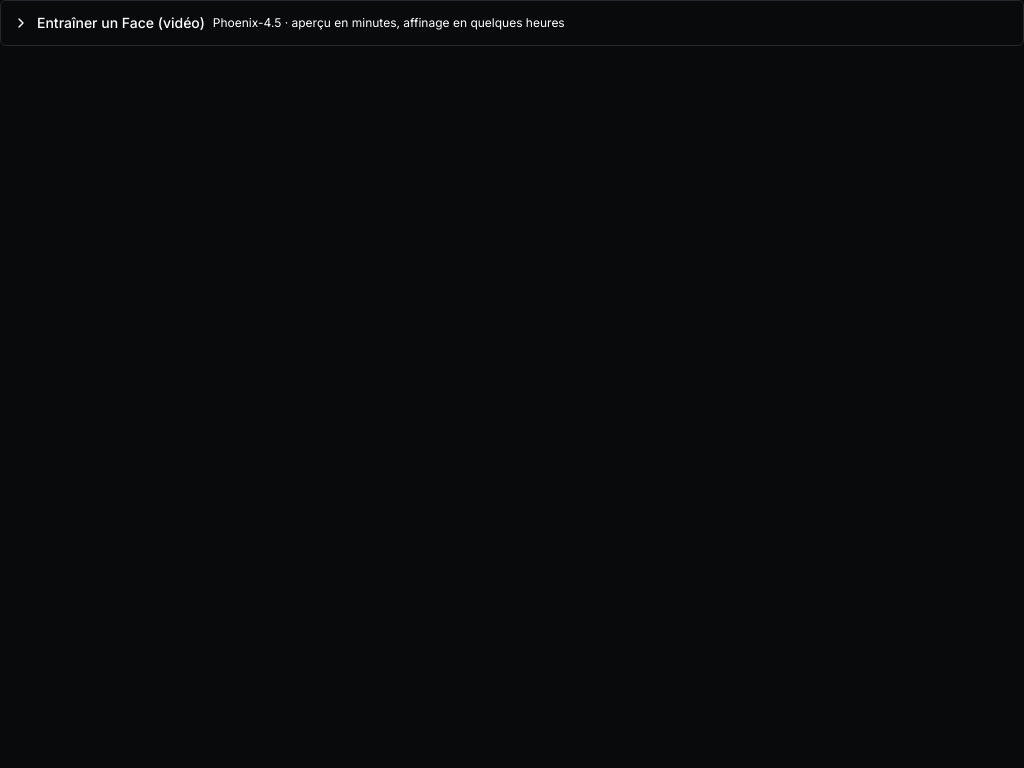
Test: TavusFaceTrainer › suggests « Max — date » and keeps training disabled without a source
What coordinates should you click on to do the following:
click the text "Entraîner un Face (vidéo)"
I would click on:
 (121, 23)
Its box is left=37, top=13, right=205, bottom=33.
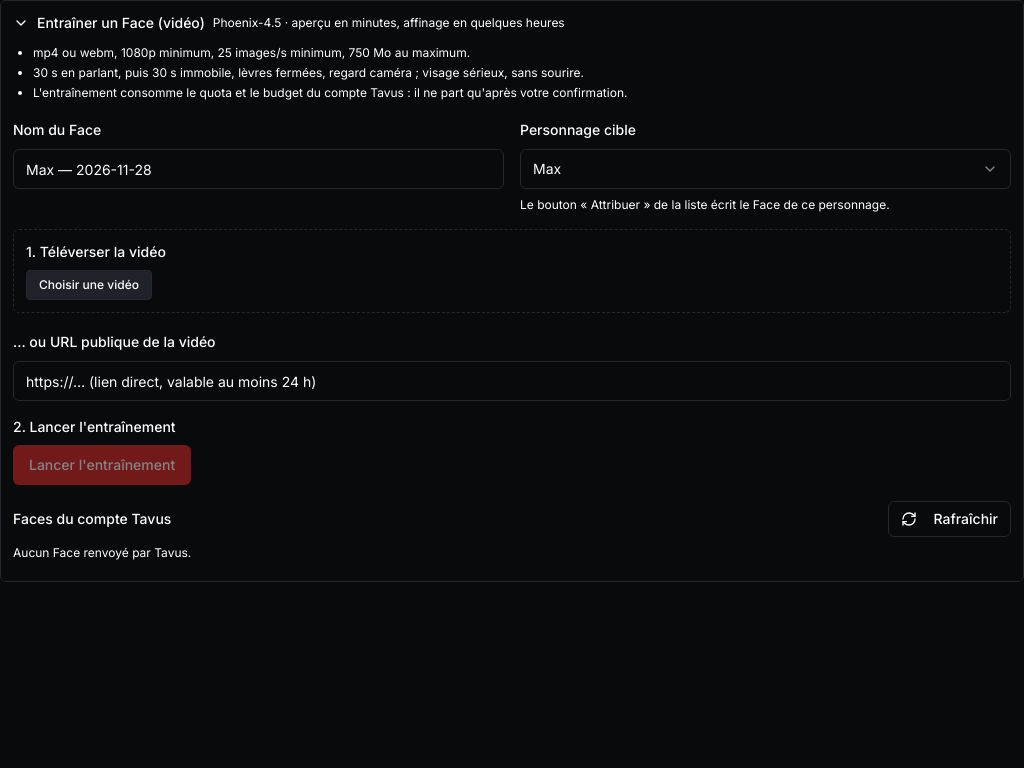
Check: the button "Lancer l'entraînement" is disabled, box left=13, top=445, right=191, bottom=485
